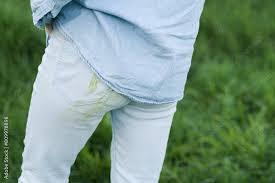earth: (89, 98, 109, 114), (90, 73, 95, 91)
